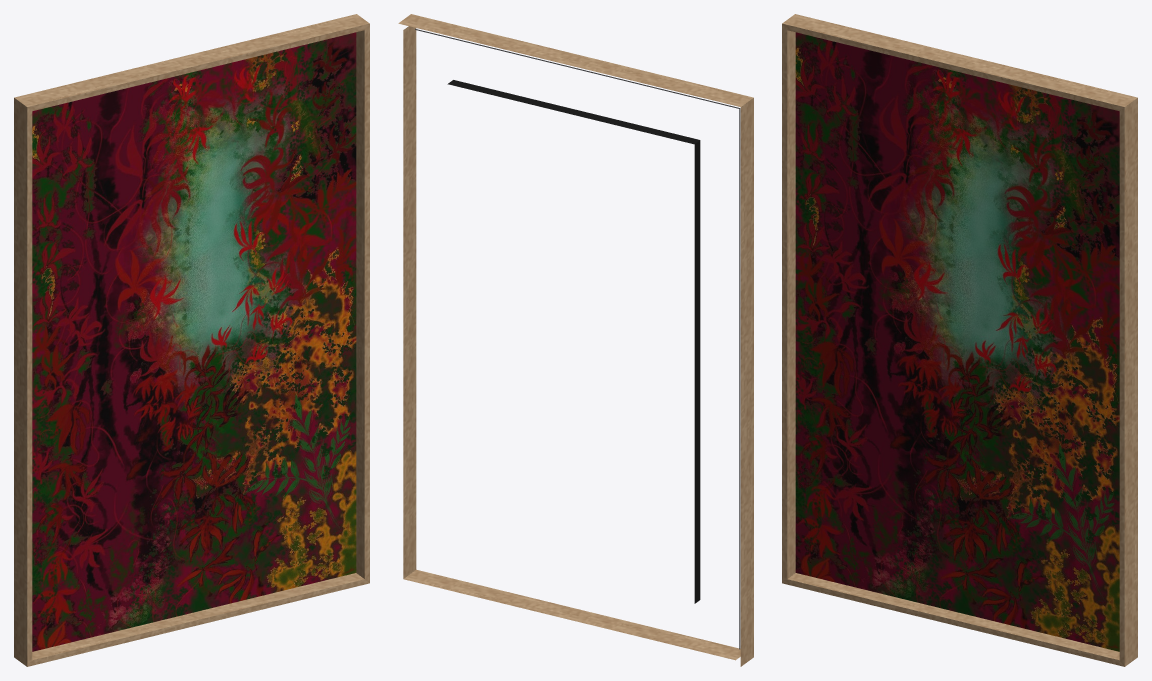
The model's file is os015_moyen_caisse-chene.glb.
3 views of the same model, side by side, from view 1: azimuth 30°, elevation 25°; view 2: azimuth 150°, elevation 25°; view 3: azimuth 330°, elevation 25° (orthographic).
Visible parts, largest first — view 1: os015_moyen_caisse-chene; view 2: os015_moyen_caisse-chene; view 3: os015_moyen_caisse-chene.
Part boxes in pixels (x1,y1,x2,y2): os015_moyen_caisse-chene: [14, 14, 369, 666]; os015_moyen_caisse-chene: [398, 14, 753, 666]; os015_moyen_caisse-chene: [782, 14, 1137, 666].
Size of the model in its own units: 0.5304 by 0.828 by 0.035.
Materials: 4 (2 with a texture image).
